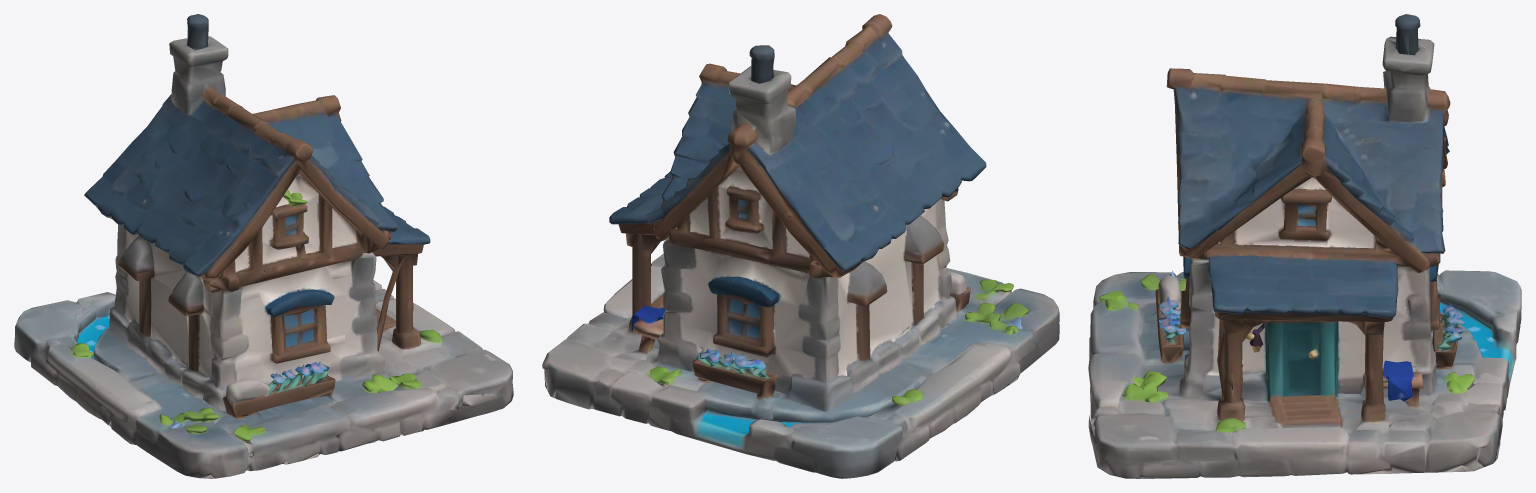
The model's file is rook-house.glb.
3 views of the same model, side by side, from view 1: azimuth 30°, elevation 25°; view 2: azimuth 150°, elevation 25°; view 3: azimuth 270°, elevation 25° (orthographic). The views are drawn at different scales.
Bounding box in the file's own units: 3.82 × 3.56 × 3.85.
Materials: 1 (1 with a texture image).
